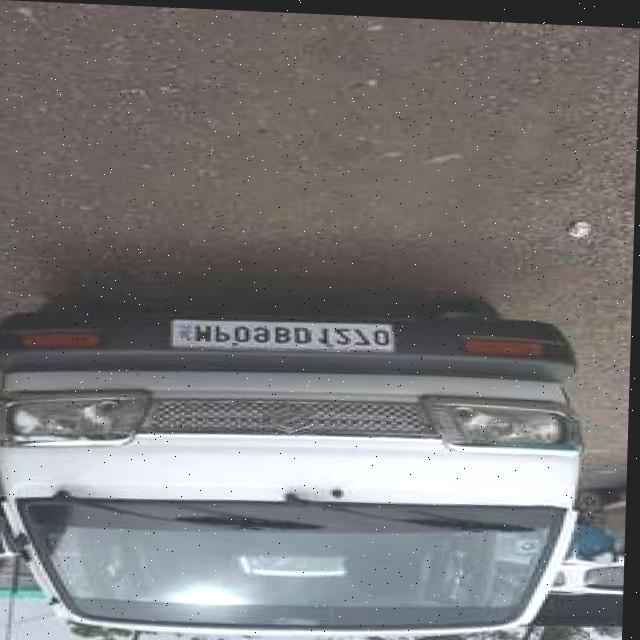plate: (166, 310, 402, 357)
